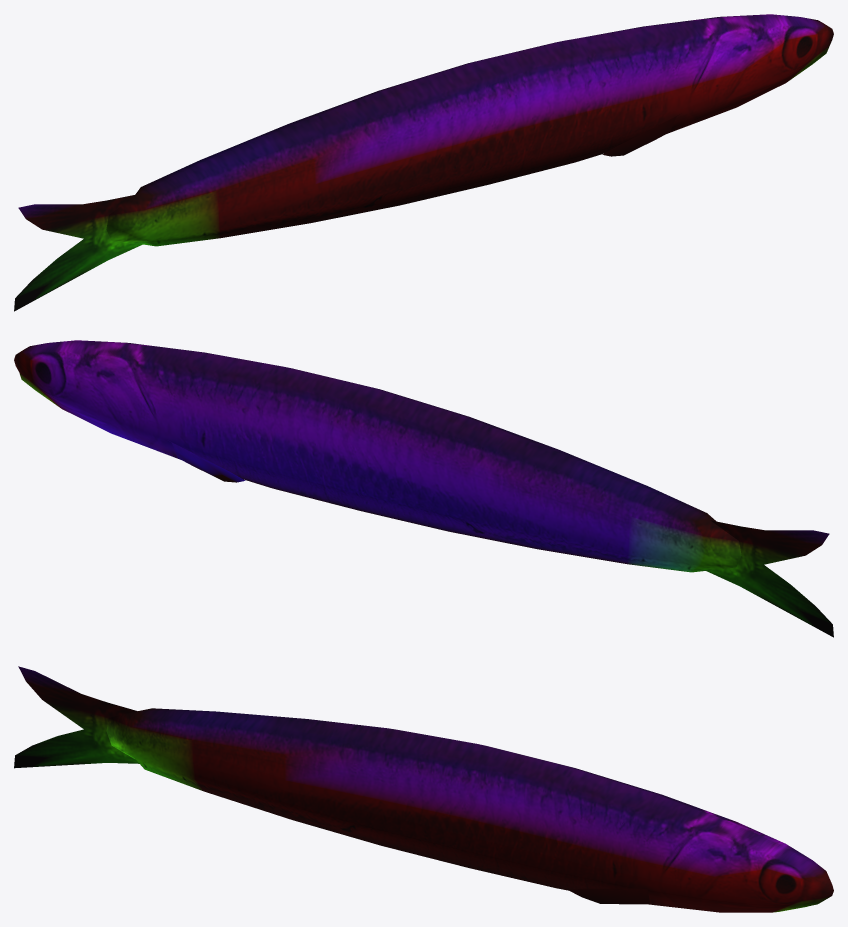
File: european_anchovy.glb
3 renders of one model, top to bottom at view 1: azimuth 30°, elevation 25°; view 2: azimuth 150°, elevation 25°; view 3: azimuth 330°, elevation 25°, orthographic.
Parts seen in each view (by area): view 1: EuropeanAnchovy; view 2: EuropeanAnchovy; view 3: EuropeanAnchovy.
Part boxes in pixels (<box>): EuropeanAnchovy: <box>14,14,833,311</box>; EuropeanAnchovy: <box>14,340,833,637</box>; EuropeanAnchovy: <box>14,666,833,912</box>.
Bounding box in the file's own units: 1 × 0.1601 × 0.0737.
1 material, 1 textured.
